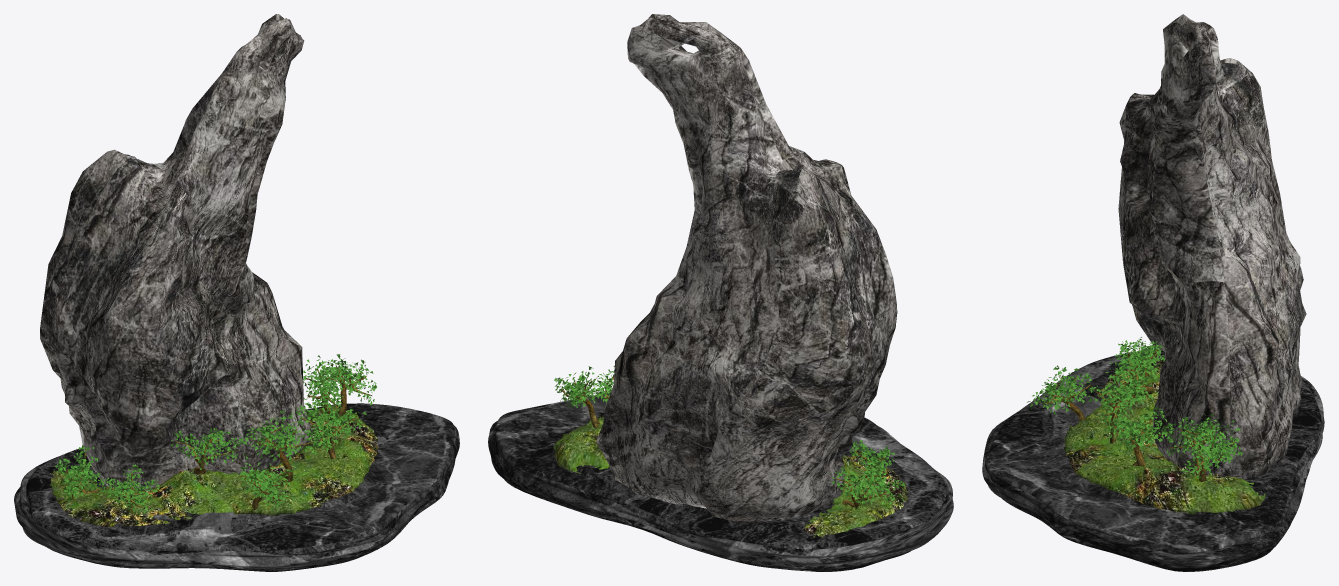
The picture shows the model from 3 angles, left to right: view 1: azimuth 30°, elevation 25°; view 2: azimuth 150°, elevation 25°; view 3: azimuth 270°, elevation 25°; orthographic projection. The views are drawn at different scales.
Visible parts, largest first — view 1: Obj3d66_587530_5_728, Obj3d66_587530_6_92, Obj3d66_587530_7_17, Material__29, Material__28; view 2: Obj3d66_587530_5_728, Obj3d66_587530_6_92, Obj3d66_587530_7_17, Material__29, Material__28; view 3: Obj3d66_587530_5_728, Obj3d66_587530_6_92, Obj3d66_587530_7_17, Material__29, Material__28.
Part boxes in pixels (x1,y1,x2,y2): Obj3d66_587530_5_728: [40, 14, 313, 491]; Obj3d66_587530_6_92: [14, 403, 459, 571]; Obj3d66_587530_7_17: [49, 406, 378, 526]; Material__29: [55, 354, 376, 513]; Material__28: [66, 365, 371, 509]; Obj3d66_587530_5_728: [596, 14, 897, 521]; Obj3d66_587530_6_92: [488, 393, 953, 571]; Obj3d66_587530_7_17: [553, 412, 907, 537]; Material__29: [554, 366, 905, 510]; Material__28: [560, 376, 895, 509]; Obj3d66_587530_5_728: [1118, 14, 1306, 479]; Obj3d66_587530_6_92: [982, 350, 1324, 571]; Obj3d66_587530_7_17: [1063, 359, 1265, 514]; Material__29: [1027, 337, 1242, 478]; Material__28: [1038, 348, 1234, 481].
Size of the model in its own units: 385 by 400 by 263.
5 materials, 5 textured.
